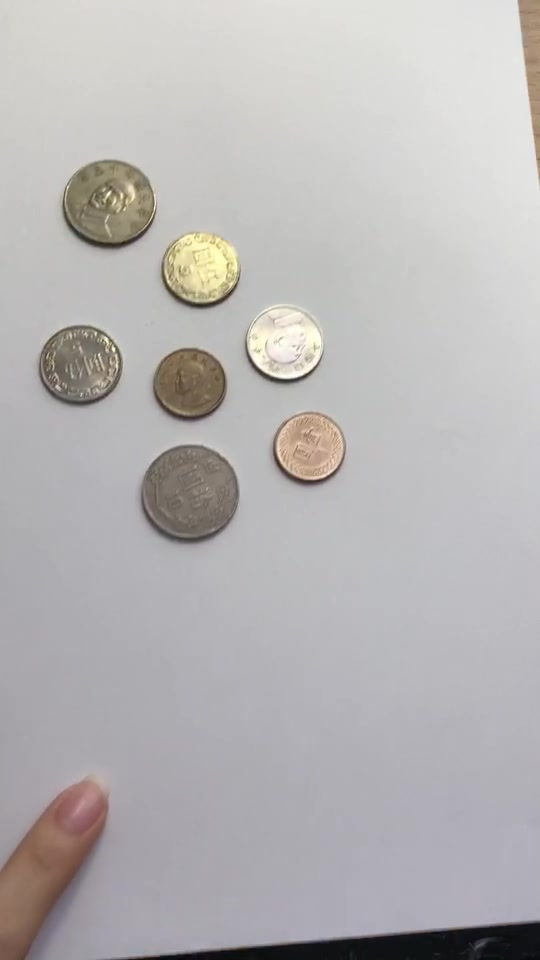1 dallar: (147, 340, 231, 424), (269, 405, 353, 489)
10 dallar: (136, 437, 245, 547), (57, 149, 155, 251)
5 dallar: (31, 320, 123, 410), (155, 227, 247, 317), (242, 295, 334, 385)
